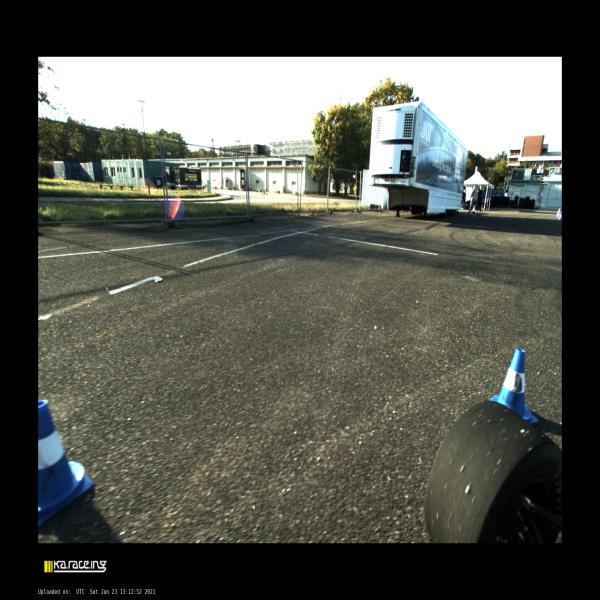blue_cone: (38, 400, 94, 525), (491, 348, 538, 424), (558, 214, 562, 222), (556, 210, 560, 218)
yellow_cone: (472, 205, 475, 211), (481, 204, 483, 209)
